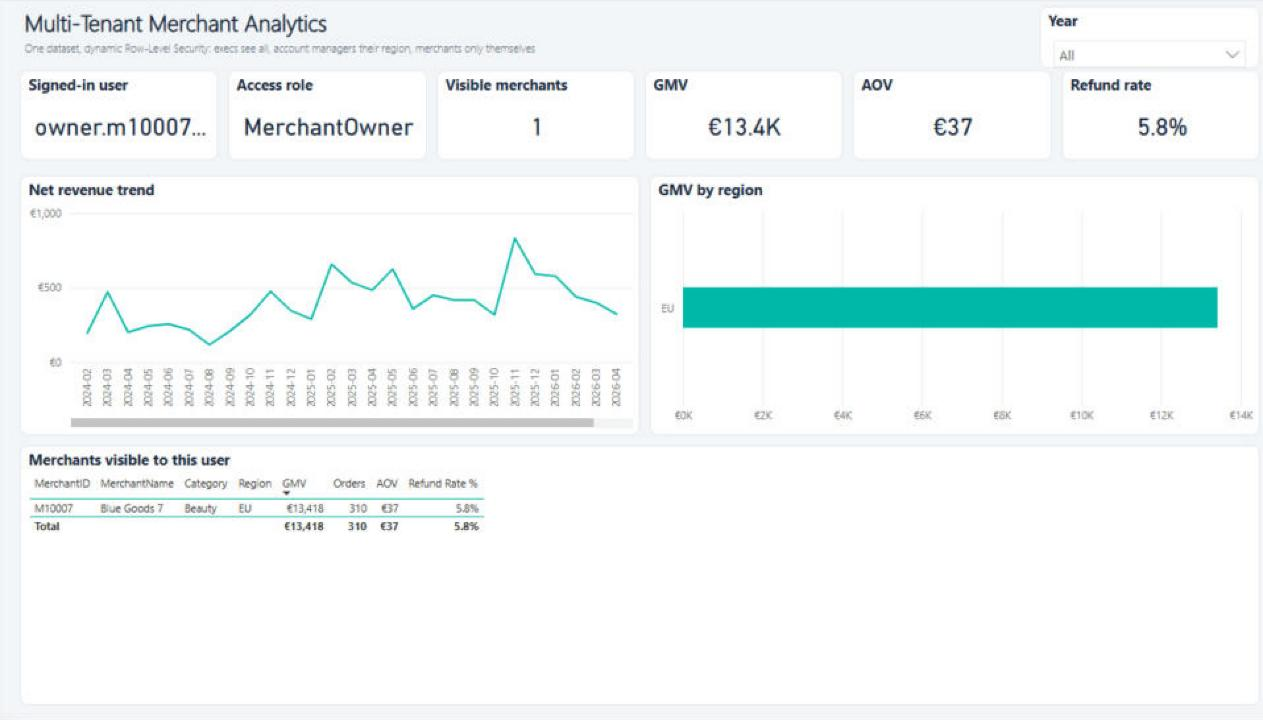

The dashboard page shown, as its layout file describes it:
{"tool":"powerbi","page":{"name":"Merchant Performance","canvas":[1280,720],"ordinal":0},"visuals":[{"type":"textbox","box":[20,2,1000,70],"z":0},{"type":"slicer","title":"Year","fields":{"Values":["dim_date.Year"]},"box":[1040,6,220,62],"z":1000},{"type":"card","title":"Signed-in user","fields":{"Values":["_Measures.Current User"]},"box":[20,70,198.3,90],"z":2000},{"type":"card","title":"Access role","fields":{"Values":["_Measures.Viewer Role"]},"box":[228.3,70,198.3,90],"z":3000},{"type":"card","title":"Visible merchants","fields":{"Values":["_Measures.Visible Merchants"]},"box":[436.7,70,198.3,90],"z":4000},{"type":"card","title":"GMV","fields":{"Values":["_Measures.GMV"]},"box":[645,70,198.3,90],"z":5000},{"type":"card","title":"AOV","fields":{"Values":["_Measures.AOV"]},"box":[853.3,70,198.3,90],"z":6000},{"type":"card","title":"Refund rate","fields":{"Values":["_Measures.Refund Rate %"]},"box":[1061.7,70,198.3,90],"z":7000},{"type":"lineChart","title":"Net revenue trend","fields":{"Category":["dim_date.YearMonth"],"Y":["_Measures.Net Revenue"]},"box":[20,175,620,260],"z":8000},{"type":"clusteredBarChart","title":"GMV by region","fields":{"Category":["dim_merchant.Region"],"Y":["_Measures.GMV"]},"box":[650,175,610,260],"z":9000},{"type":"tableEx","title":"Merchants visible to this user","fields":{"Values":["dim_merchant.MerchantID","dim_merchant.MerchantName","dim_merchant.Category","dim_merchant.Region","_Measures.GMV","_Measures.Orders","_Measures.AOV","_Measures.Refund Rate %"]},"box":[20,445,1240,260],"z":10000}]}

Visuals, with their boxes in screenshot pixels (x1, y1, x2, y2), scaled from the page's 1280x720 canvas onto the 1263x720 screenshot:
textbox: select_region(20, 2, 1006, 72)
"Year" slicer: select_region(1026, 6, 1243, 68)
"Signed-in user" card: select_region(20, 70, 215, 160)
"Access role" card: select_region(225, 70, 421, 160)
"Visible merchants" card: select_region(431, 70, 627, 160)
"GMV" card: select_region(636, 70, 832, 160)
"AOV" card: select_region(842, 70, 1038, 160)
"Refund rate" card: select_region(1048, 70, 1243, 160)
"Net revenue trend" lineChart: select_region(20, 175, 632, 435)
"GMV by region" clusteredBarChart: select_region(641, 175, 1243, 435)
"Merchants visible to this user" tableEx: select_region(20, 445, 1243, 705)
